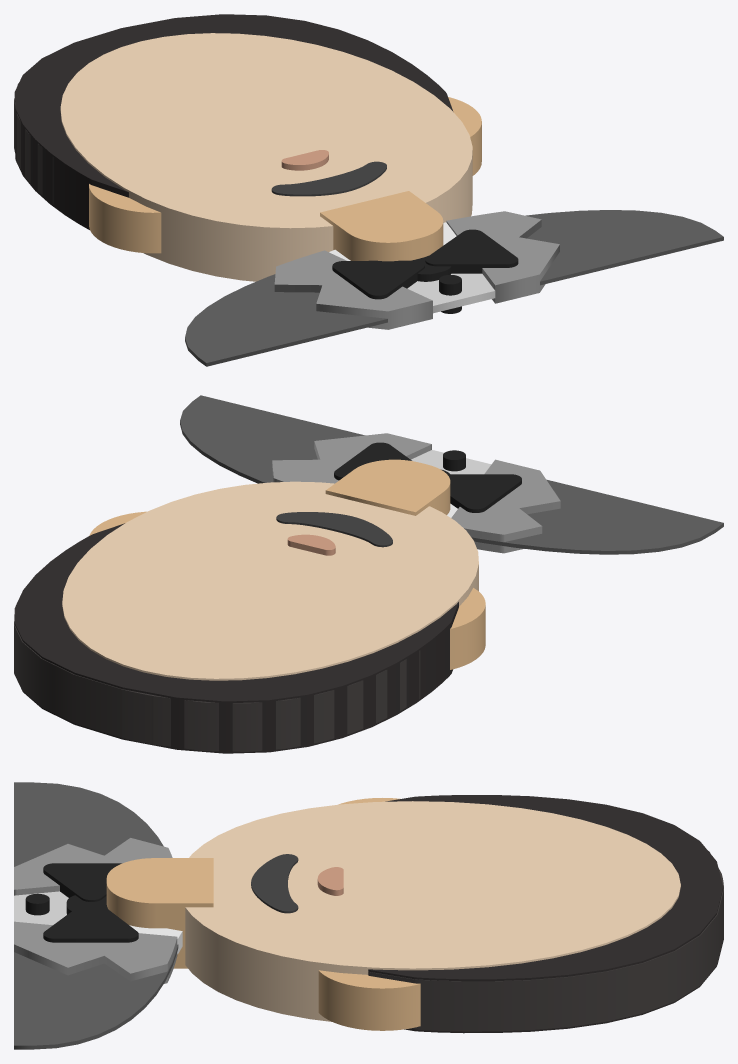
File: emoji_u1f935_1f3fb_200d_2642.glb
3 renders of one model, top to bottom at view 1: azimuth 30°, elevation 25°; view 2: azimuth 150°, elevation 25°; view 3: azimuth 270°, elevation 25°, orthographic. The views are drawn at different scales.
Visible parts, largest first — view 1: emoji_u1f935_1f3fb_200d_2642; view 2: emoji_u1f935_1f3fb_200d_2642; view 3: emoji_u1f935_1f3fb_200d_2642.
Boxes of the visible parts, <box> form: emoji_u1f935_1f3fb_200d_2642: <box>14,14,723,366</box>; emoji_u1f935_1f3fb_200d_2642: <box>14,395,723,753</box>; emoji_u1f935_1f3fb_200d_2642: <box>14,782,723,1049</box>.
Size of the model in its own units: 0.0294 by 0.0036 by 0.0334.
